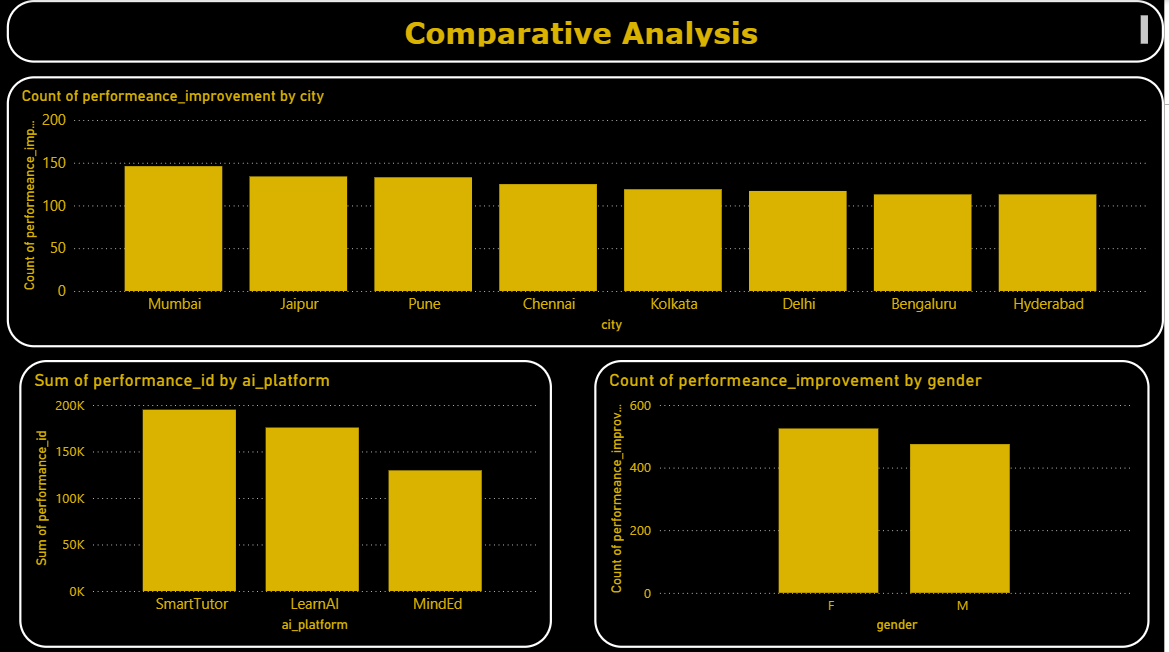

The page's visual inventory and layout, read from the dashboard file:
{"tool":"powerbi","page":{"name":"Page 3","canvas":[1280,720],"ordinal":2},"visuals":[{"type":"textbox","box":[9.6,0,1270.7,68.6],"z":0},{"type":"columnChart","fields":{"Category":["colleges.ai_platform"],"Y":["Sum(performance.performance_id)"]},"box":[23.3,395.2,584.6,315.6],"z":1000},{"type":"columnChart","fields":{"Category":["colleges.city"],"Y":["CountNonNull(performance.performeance_improvement)"]},"box":[9.6,83.7,1270.7,297.8],"z":2000},{"type":"columnChart","fields":{"Category":["students.gender"],"Y":["CountNonNull(performance.performeance_improvement)"]},"box":[654.5,395.2,609.3,315.6],"z":3000}]}

Visuals, with their boxes in screenshot pixels (x1, y1, x2, y2), scaled from the page's 1280x720 canvas onto the 1169x652 screenshot:
textbox: box=[9, 0, 1168, 62]
columnChart - colleges.ai_platform x Sum(performance.performance_id): box=[21, 358, 555, 644]
columnChart - colleges.city x CountNonNull(performance.performeance_improvement): box=[9, 76, 1168, 345]
columnChart - students.gender x CountNonNull(performance.performeance_improvement): box=[598, 358, 1154, 644]
